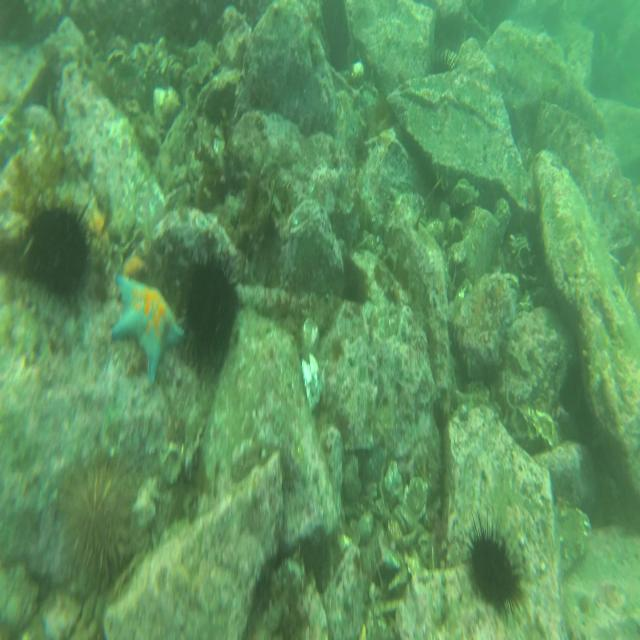echinus: (61, 460, 133, 590), (462, 514, 528, 617), (24, 205, 94, 302), (189, 249, 237, 368)
starfish: (113, 269, 178, 382)
